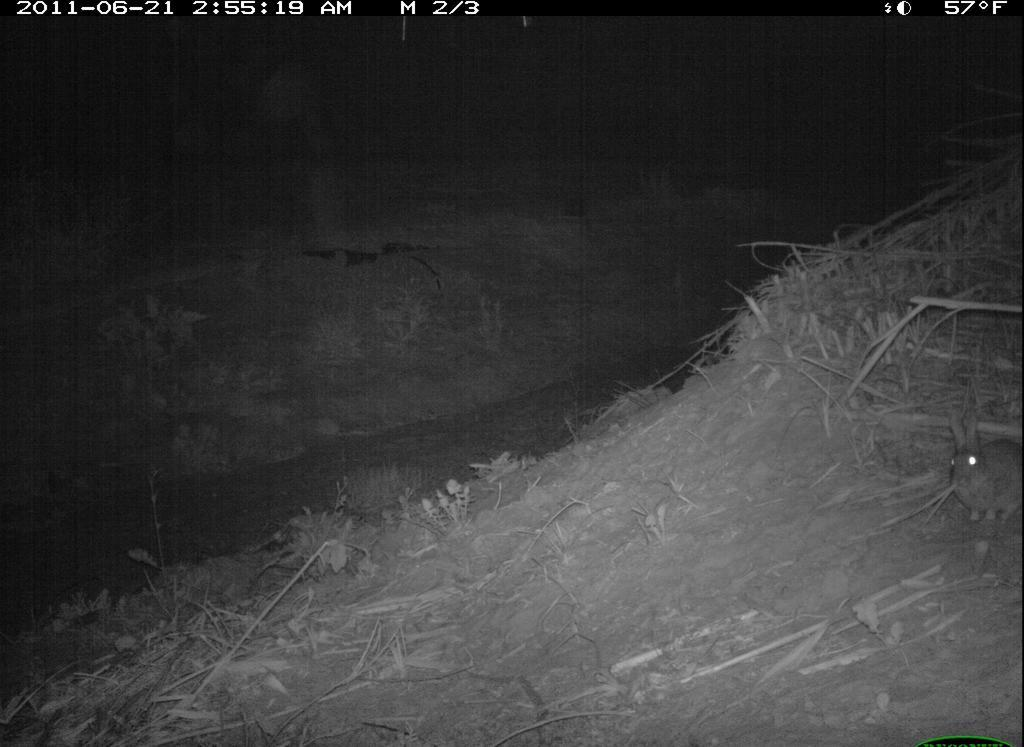rabbit: (943, 405, 1023, 536)
